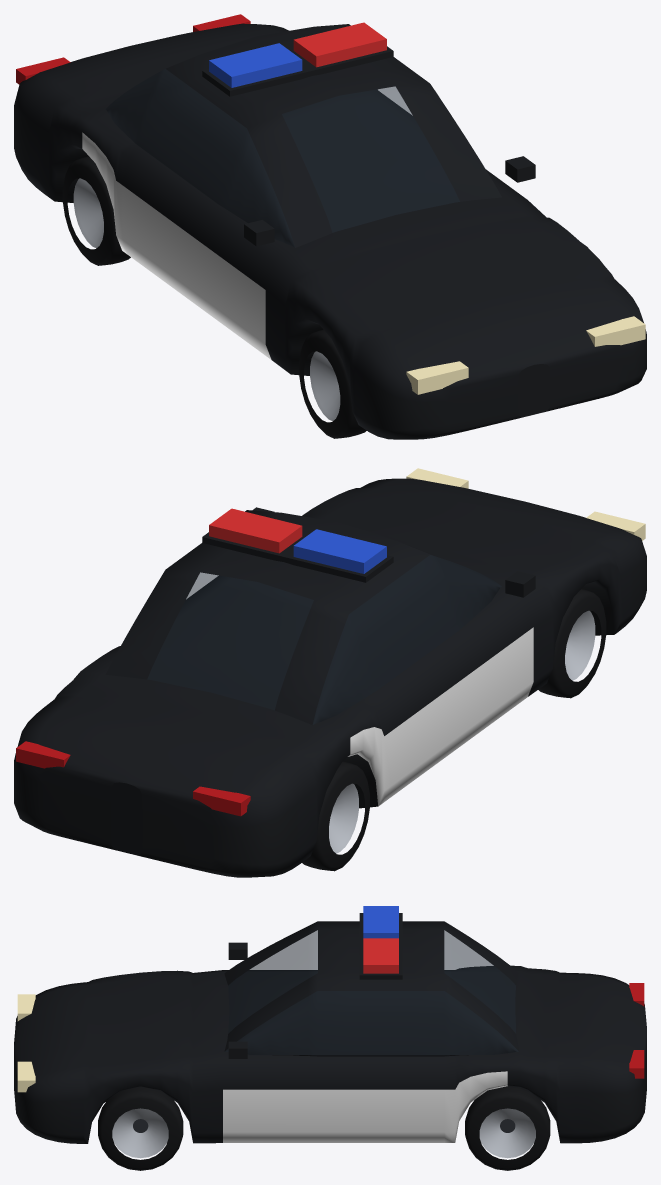
The model's file is desktop.glb.
The picture shows the model from 3 angles, top to bottom: view 1: azimuth 30°, elevation 25°; view 2: azimuth 150°, elevation 25°; view 3: azimuth 270°, elevation 25°; orthographic projection. The views are drawn at different scales.
Parts seen in each view (by area): view 1: body, glass, sirens, tyre_rr, tyre_fr, rim_rr, rim_fr, light_head_r, light_head_l; view 2: body, glass, sirens, tyre_rr, tyre_fr, rim_fr, rim_rr, light_brake_r, light_brake_l, light_head_r, light_head_l; view 3: body, glass, tyre_rl, tyre_fl, sirens, rim_rl, rim_fl, light_head_l, light_head_r, light_brake_l.
Boxes of the visible parts, x1,y1,x2,y2 form: body: [14, 23, 646, 439]; glass: [106, 69, 459, 247]; sirens: [209, 22, 386, 87]; tyre_rr: [62, 156, 130, 265]; tyre_fr: [299, 329, 366, 438]; rim_rr: [73, 178, 103, 248]; rim_fr: [310, 351, 340, 421]; light_head_r: [406, 361, 468, 394]; light_head_l: [586, 316, 645, 346]; body: [14, 478, 646, 877]; glass: [147, 555, 501, 724]; sirens: [209, 508, 386, 573]; tyre_rr: [302, 761, 369, 871]; tyre_fr: [538, 589, 606, 698]; rim_fr: [565, 610, 595, 680]; rim_rr: [329, 783, 358, 853]; light_brake_r: [193, 786, 250, 816]; light_brake_l: [16, 741, 70, 768]; light_head_r: [586, 511, 645, 540]; light_head_l: [406, 468, 468, 488]; body: [14, 913, 646, 1143]; glass: [225, 930, 518, 1055]; tyre_rl: [465, 1086, 550, 1170]; tyre_fl: [98, 1086, 183, 1170]; sirens: [363, 906, 398, 973]; rim_rl: [479, 1108, 535, 1158]; rim_fl: [112, 1108, 168, 1158]; light_head_l: [17, 1061, 35, 1092]; light_head_r: [17, 994, 35, 1021]; light_brake_l: [629, 1050, 644, 1078].
Size of what is drawn, in the model's own units: 1.98 by 1.64 by 5.
